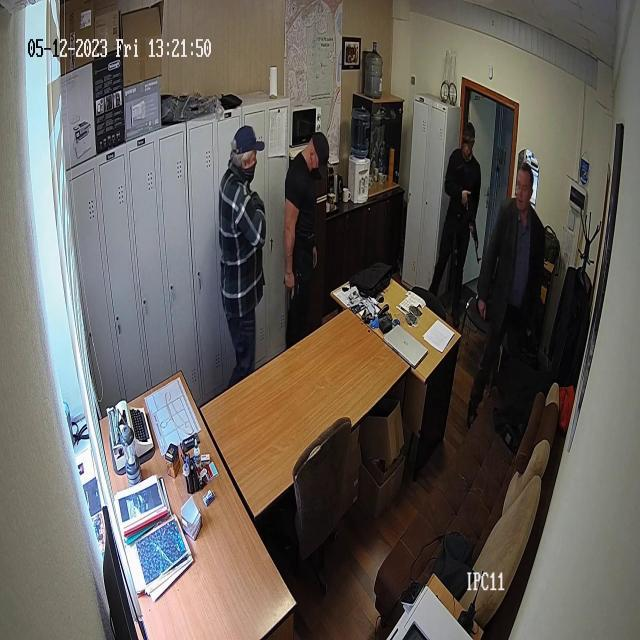pistol: (283, 235, 314, 334), (457, 162, 485, 266)
